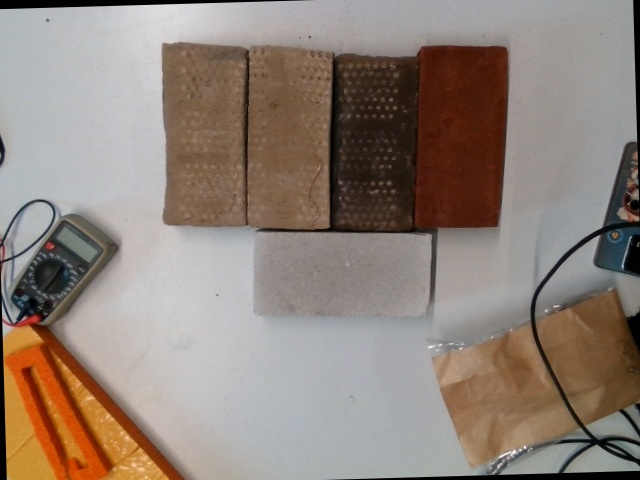brick: (160, 45, 248, 227), (247, 49, 335, 230), (420, 48, 505, 226), (253, 232, 430, 316), (336, 54, 413, 231)
